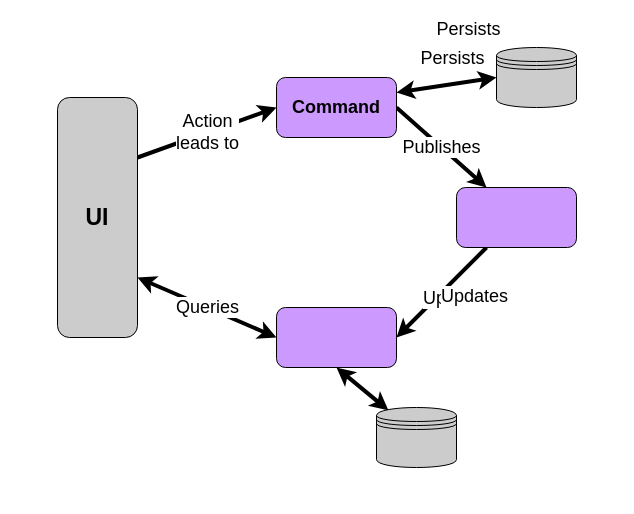
This 634x514 diagram has some shape labels left out. The box of each missing label's shape, as (x1, y1, x2, y2) in pixels:
Event: (456, 186, 576, 248)
State: (276, 306, 396, 368)
